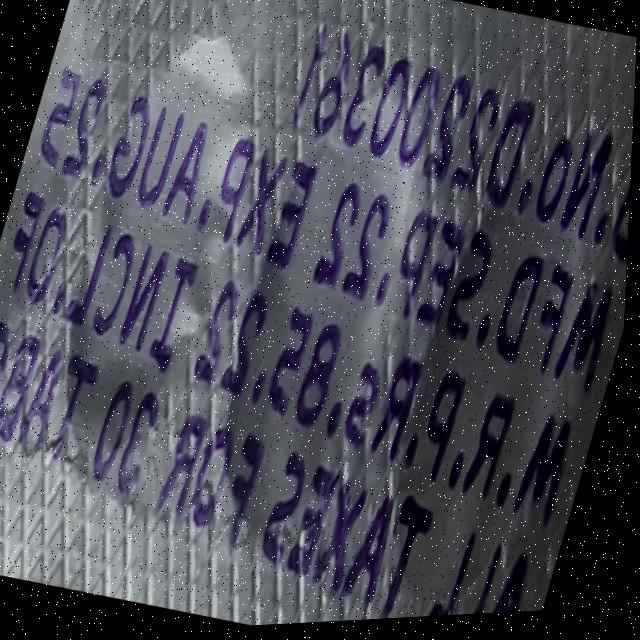sentence: (14, 194, 576, 526), (42, 67, 614, 393), (0, 324, 534, 624), (297, 27, 633, 268)
